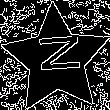N_W: (30, 38, 82, 81)
